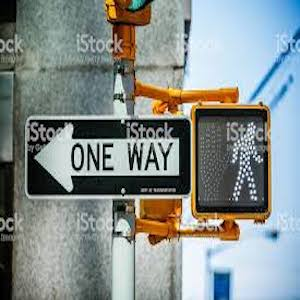green: (224, 121, 262, 196)
